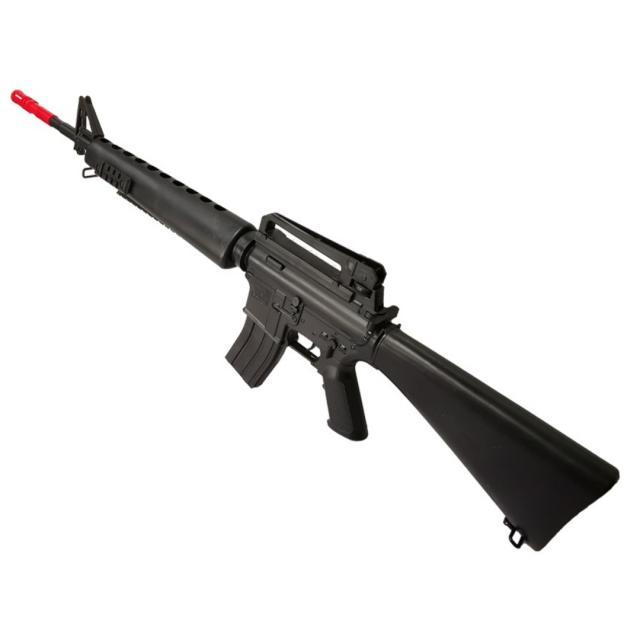m16: (9, 25, 627, 588)
